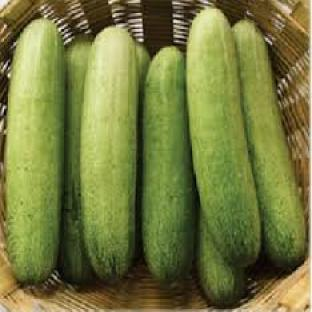Cucumber: (187, 9, 259, 267), (234, 21, 305, 268), (6, 19, 63, 284), (80, 27, 138, 280), (143, 47, 194, 281), (59, 35, 91, 282), (198, 212, 245, 306), (136, 44, 150, 256), (136, 44, 150, 101)
